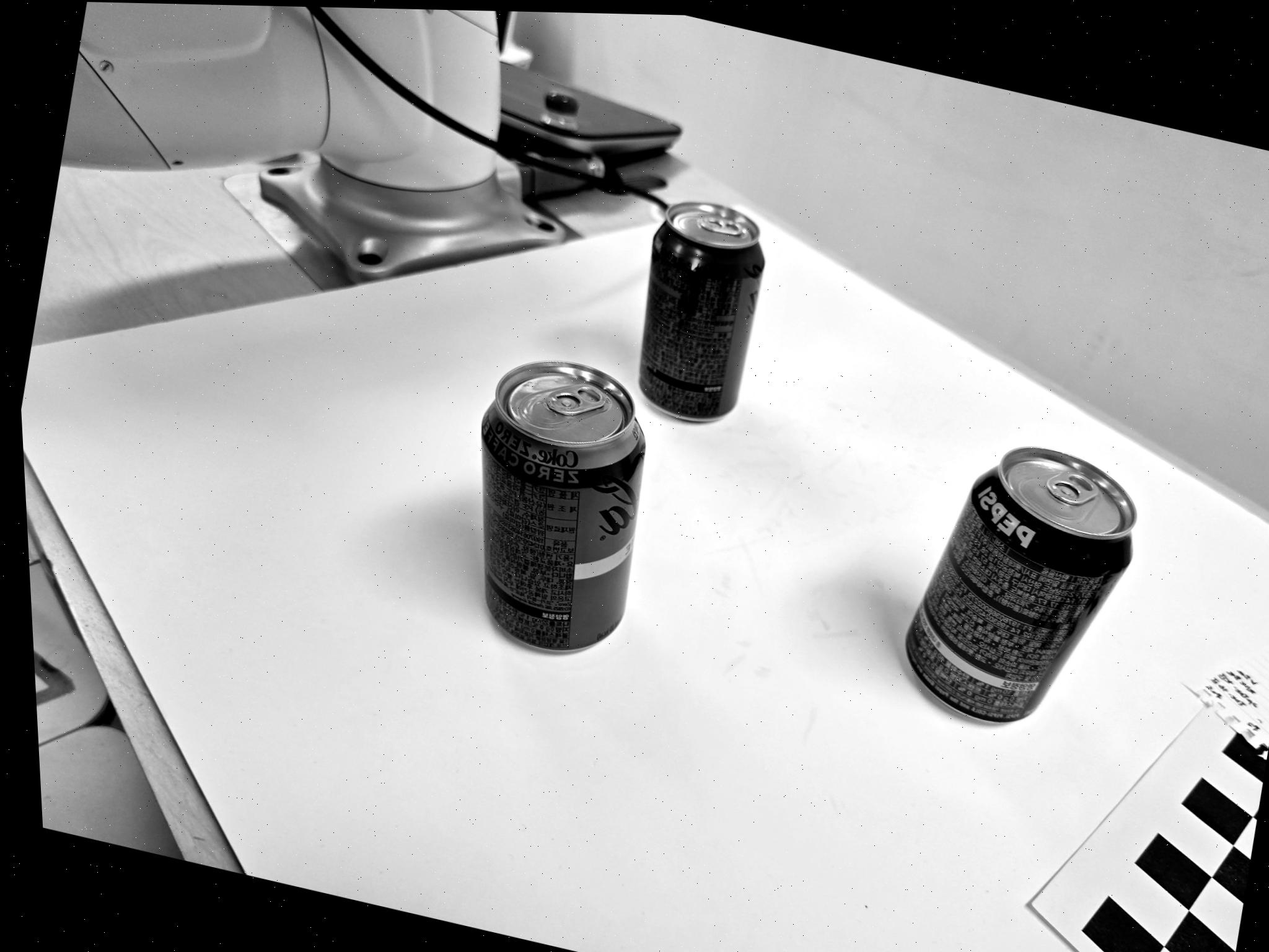can_coke_decaf: (482, 361, 647, 648)
can_coke_zero: (638, 200, 765, 421)
can_pepsi: (905, 444, 1136, 722)
